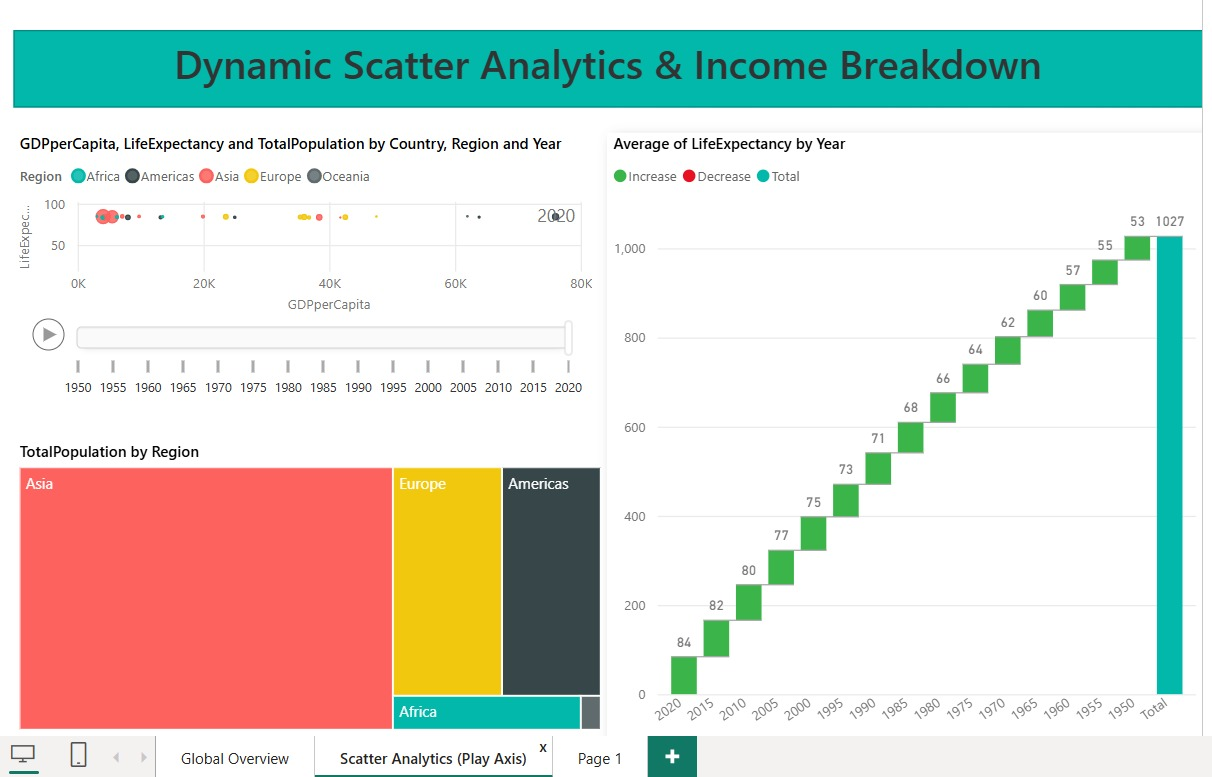

The dashboard page shown, as its layout file describes it:
{"tool":"powerbi","page":{"name":"Scatter Analytics (Play Axis)","canvas":[1280,720],"ordinal":1},"visuals":[{"type":"shape","box":[15,15,1250,55],"z":0},{"type":"scatterChart","fields":{"X":["Gapminder_1950_2024.GDPperCapita"],"Y":["Gapminder_1950_2024.LifeExpectancy"],"Size":["Gapminder_1950_2024.TotalPopulation"],"Series":["Gapminder_1950_2024.Region"],"PlayAxis":["Gapminder_1950_2024.Year"]},"box":[15,80,850,400],"z":1},{"type":"treemap","fields":{"Group":["Gapminder_1950_2024.Region"],"Values":["Gapminder_1950_2024.Total World Population"]},"box":[880,80,385,400],"z":2},{"type":"waterfallChart","fields":{"Category":["Gapminder_1950_2024.Year"],"Y":["Gapminder_1950_2024.Avg Life Expectancy"]},"box":[15,490,1250,210],"z":3}]}

Visuals, with their boxes on the page's 1280x720 design canvas (x1, y1, x2, y2). These are canvas units, not pixel positions in the 1212x777 screenshot, which may show the page scaled, cropped or inside an application window:
shape: box=[15, 15, 1265, 70]
scatterChart - Gapminder_1950_2024.GDPperCapita x Gapminder_1950_2024.LifeExpectancy: box=[15, 80, 865, 480]
treemap - Gapminder_1950_2024.Region x Gapminder_1950_2024.Total World Population: box=[880, 80, 1265, 480]
waterfallChart - Gapminder_1950_2024.Year x Gapminder_1950_2024.Avg Life Expectancy: box=[15, 490, 1265, 700]
